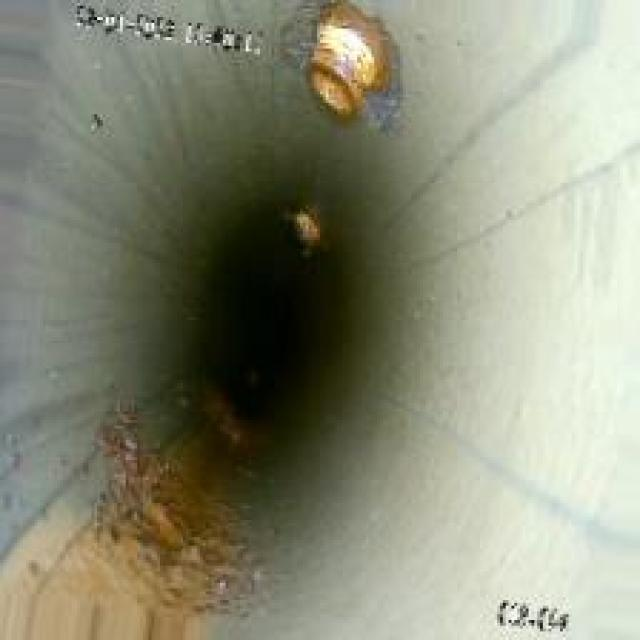ferrule: (292, 5, 428, 128), (280, 186, 340, 263)
